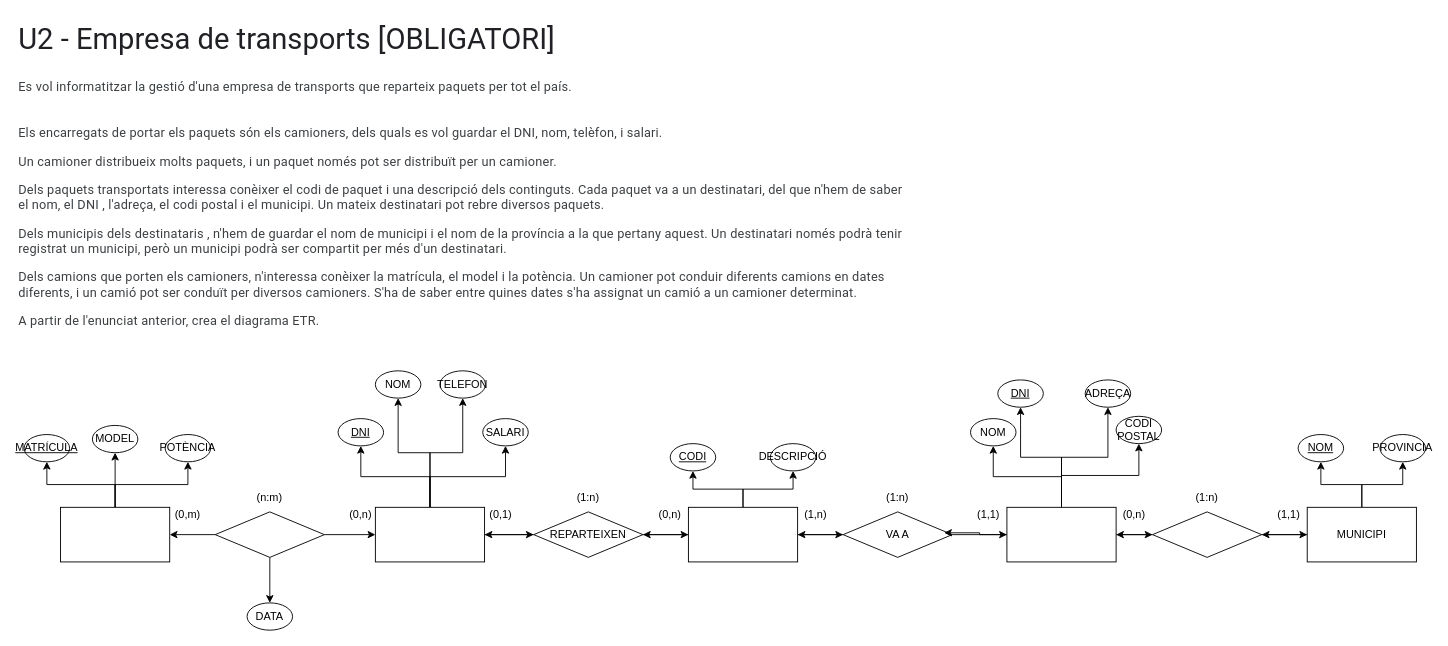
This 1448x646 diagram has some shape labels left out. Here are the shapes that lost their labels. From the top down, the centre of each, then its label:
(x=115, y=534): CAMIÓ
(x=269, y=534): S'ASSIGNA A
(x=429, y=534): CAMIONERS
(x=743, y=534): PAQUETS
(x=1061, y=534): DESTINATARI
(x=1207, y=534): TE ASIGNAT
